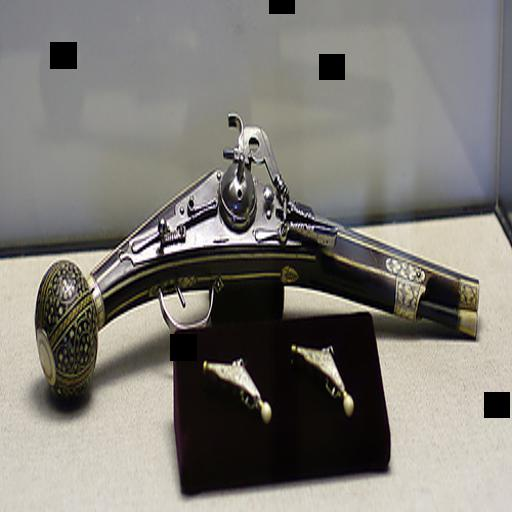Handgun: (37, 104, 480, 412)
